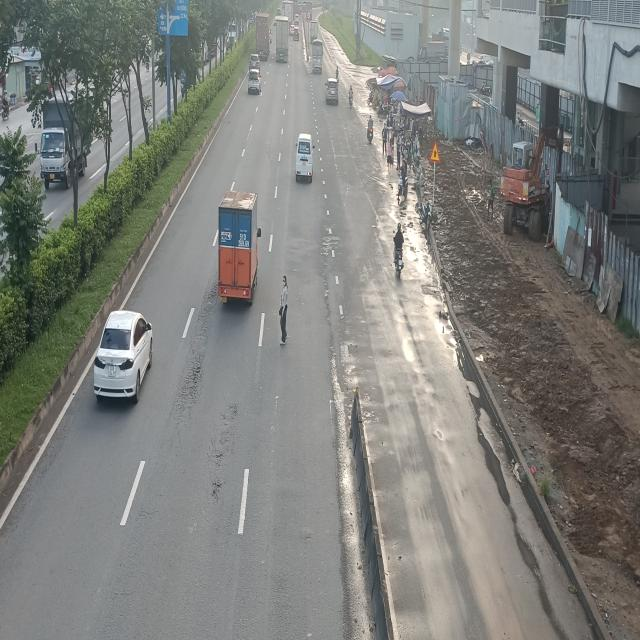car: (94, 310, 156, 406), (326, 78, 340, 105)
container: (254, 13, 270, 61), (275, 16, 289, 62)
truck: (214, 190, 260, 306), (312, 39, 324, 75)
van: (295, 131, 315, 181)
